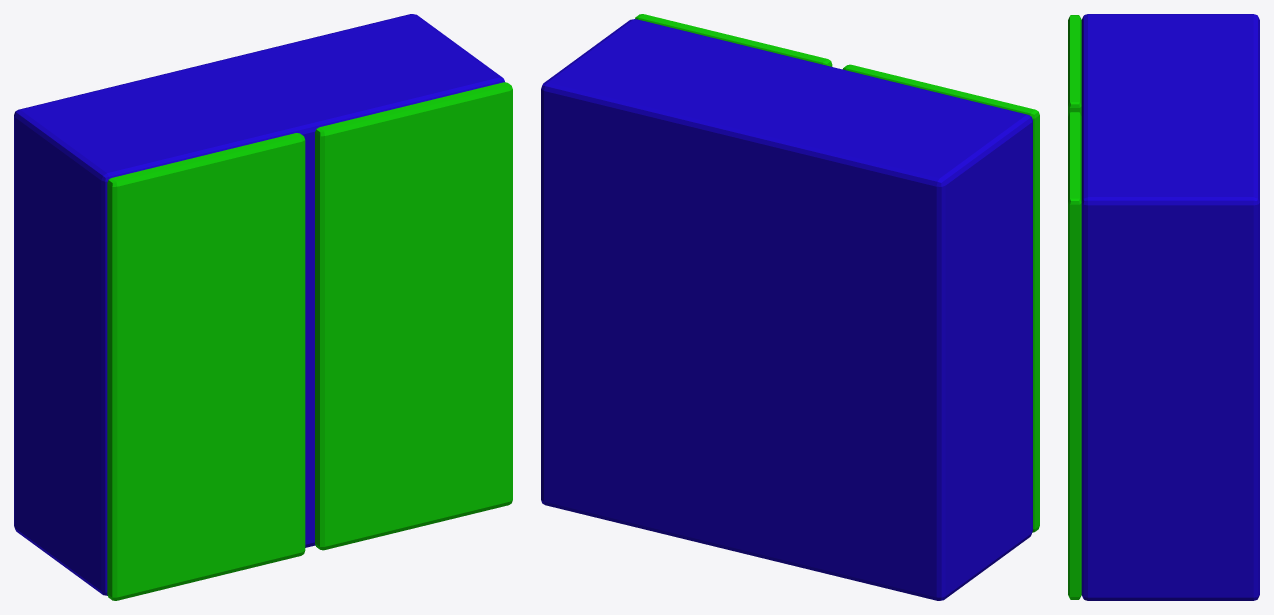
The model's file is Fridge.fbx.
3 renders of one model, left to right at view 1: azimuth 30°, elevation 25°; view 2: azimuth 150°, elevation 25°; view 3: azimuth 270°, elevation 25°, orthographic. The views are drawn at different scales.
Parts seen in each view (by area): view 1: Fridge; view 2: Fridge; view 3: Fridge.
Part boxes in pixels (bbox=[...]): Fridge: bbox=[14, 14, 512, 600]; Fridge: bbox=[541, 14, 1039, 600]; Fridge: bbox=[1068, 14, 1259, 600].
Bounding box in the file's own units: 200 × 200 × 86.08.
